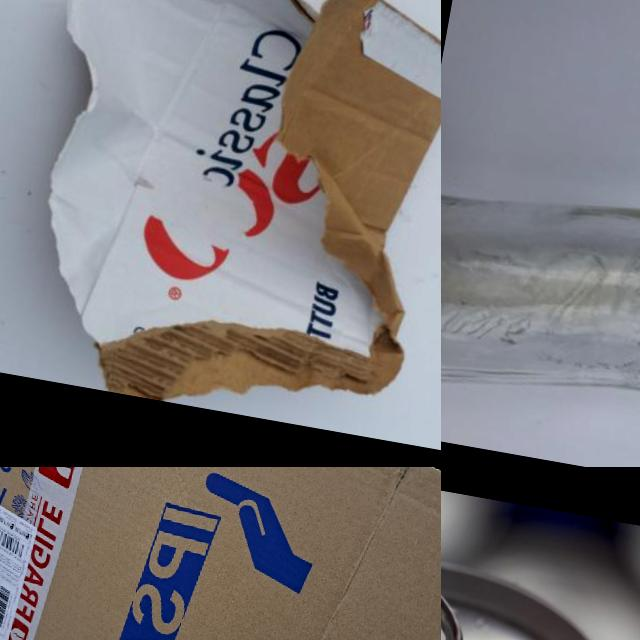garrafa de vidro: (441, 160, 640, 467)
lata: (441, 523, 640, 640)
papelão: (0, 0, 441, 443), (0, 467, 441, 640)
